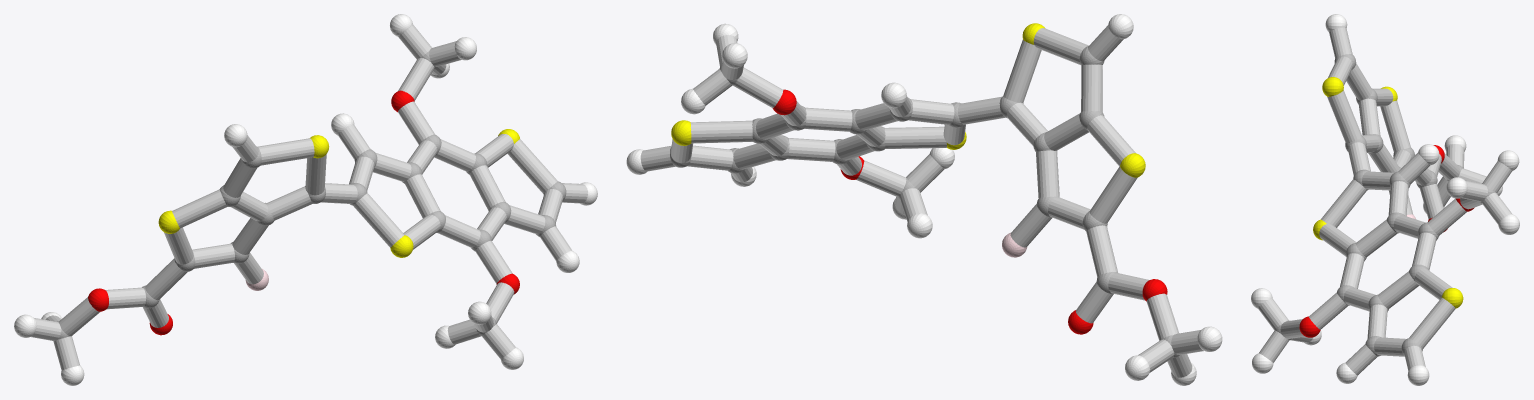
The model's file is color.glb.
3 views of the same model, side by side, from view 1: azimuth 30°, elevation 25°; view 2: azimuth 150°, elevation 25°; view 3: azimuth 270°, elevation 25° (orthographic). The views are drawn at different scales.
Parts seen in each view (by area): view 1: grp15205, grp8689, grp1, grp7241, grp13395; view 2: grp15205, grp8689, grp1, grp7241, grp13395; view 3: grp15205, grp8689, grp1, grp7241, grp13395.
Boxes of the visible parts, x1=… form: grp15205: x1=31, y1=24, x2=587, y2=370; grp8689: x1=14, y1=14, x2=597, y2=385; grp1: x1=57, y1=51, x2=566, y2=339; grp7241: x1=158, y1=129, x2=519, y2=257; grp13395: x1=88, y1=90, x2=519, y2=335; grp15205: x1=640, y1=25, x2=1203, y2=377; grp8689: x1=626, y1=14, x2=1222, y2=385; grp1: x1=670, y1=46, x2=1179, y2=358; grp7241: x1=671, y1=23, x2=1145, y2=177; grp13395: x1=772, y1=89, x2=1167, y2=334; grp15205: x1=1258, y1=27, x2=1512, y2=375; grp8689: x1=1251, y1=14, x2=1519, y2=385; grp1: x1=1275, y1=54, x2=1494, y2=356; grp7241: x1=1313, y1=77, x2=1463, y2=308; grp13395: x1=1299, y1=145, x2=1474, y2=337.
Size of the model in its own units: 16.57 by 7.69 by 7.46.
